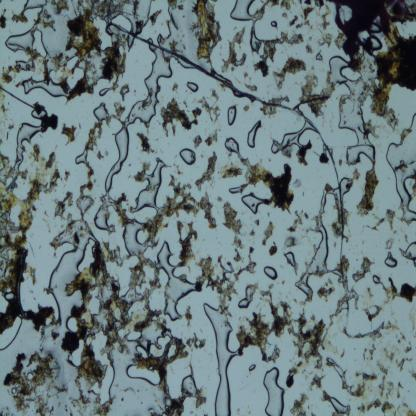Air bubble: (105, 52, 171, 192), (332, 49, 376, 165), (296, 183, 339, 297), (46, 218, 93, 314), (202, 302, 239, 416), (385, 113, 416, 226), (157, 242, 195, 319), (130, 157, 166, 213), (266, 122, 313, 152), (13, 121, 42, 168), (121, 219, 154, 256), (46, 56, 85, 87), (262, 366, 285, 416), (20, 77, 65, 98), (125, 364, 162, 386), (5, 30, 36, 56), (96, 195, 117, 232), (0, 316, 22, 351), (230, 0, 258, 21), (74, 195, 94, 222), (150, 335, 171, 358), (69, 338, 84, 370), (223, 136, 243, 159), (242, 194, 262, 216), (181, 374, 198, 399), (247, 120, 262, 148), (240, 285, 256, 310), (329, 396, 350, 415), (401, 239, 416, 264), (340, 66, 362, 83), (92, 104, 110, 123), (179, 148, 196, 166), (341, 177, 355, 195), (66, 315, 79, 334), (384, 250, 399, 266), (74, 148, 89, 164), (283, 251, 296, 269), (226, 106, 237, 126), (369, 37, 383, 52), (263, 266, 278, 280), (16, 60, 35, 71), (30, 107, 48, 118), (228, 184, 245, 195), (118, 84, 128, 101), (186, 81, 199, 93), (98, 87, 110, 97), (372, 273, 381, 285), (270, 20, 280, 30), (248, 362, 256, 372)
Background material: (0, 153, 55, 325), (62, 242, 134, 356), (239, 288, 327, 358), (336, 4, 416, 64), (368, 30, 416, 126), (3, 348, 60, 416), (135, 338, 184, 415), (353, 366, 415, 416), (340, 328, 412, 368), (244, 158, 295, 212), (151, 174, 197, 233), (255, 27, 304, 74), (194, 257, 238, 309), (190, 5, 222, 59), (160, 98, 202, 135), (31, 144, 62, 192), (326, 356, 362, 397), (336, 256, 359, 316), (300, 73, 330, 119), (274, 52, 308, 88), (174, 218, 200, 264), (221, 201, 245, 250), (358, 165, 380, 217), (78, 347, 108, 385), (22, 303, 56, 336), (224, 32, 249, 72), (381, 276, 416, 304), (196, 150, 218, 191), (195, 192, 218, 230), (64, 378, 91, 410), (307, 359, 329, 398), (233, 250, 258, 280), (200, 90, 222, 124), (283, 213, 301, 251), (33, 53, 64, 74), (370, 208, 398, 231), (0, 96, 13, 145), (53, 192, 74, 220), (350, 258, 373, 283), (281, 6, 304, 29), (91, 392, 113, 416), (286, 359, 303, 390), (84, 124, 102, 152), (289, 392, 309, 416), (80, 162, 94, 196), (217, 162, 243, 180), (136, 130, 155, 154), (60, 122, 78, 145), (297, 139, 312, 165), (185, 334, 206, 350), (41, 114, 58, 133), (40, 10, 56, 29), (363, 306, 381, 322), (204, 128, 219, 146), (0, 63, 13, 83), (263, 221, 273, 245), (321, 6, 331, 30), (10, 13, 28, 26), (318, 32, 333, 47), (260, 103, 276, 117), (269, 95, 291, 105), (150, 8, 164, 23), (303, 7, 314, 25), (28, 265, 37, 284), (318, 150, 329, 164), (268, 242, 278, 257), (0, 7, 7, 28), (184, 309, 193, 325), (72, 232, 82, 246), (234, 249, 243, 263), (243, 84, 258, 92), (57, 4, 69, 14), (172, 81, 180, 95), (50, 330, 61, 340), (193, 134, 202, 146), (352, 166, 360, 179), (316, 52, 323, 63), (64, 170, 70, 182), (97, 150, 104, 160), (306, 44, 313, 54), (242, 104, 250, 112), (254, 218, 260, 226), (250, 229, 255, 236)
Cotton: (105, 23, 350, 329)
